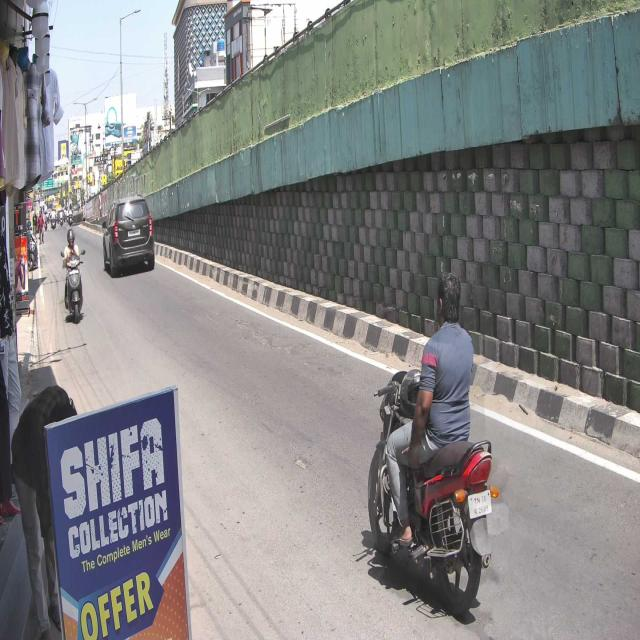single_rider: (367, 272, 499, 612)
